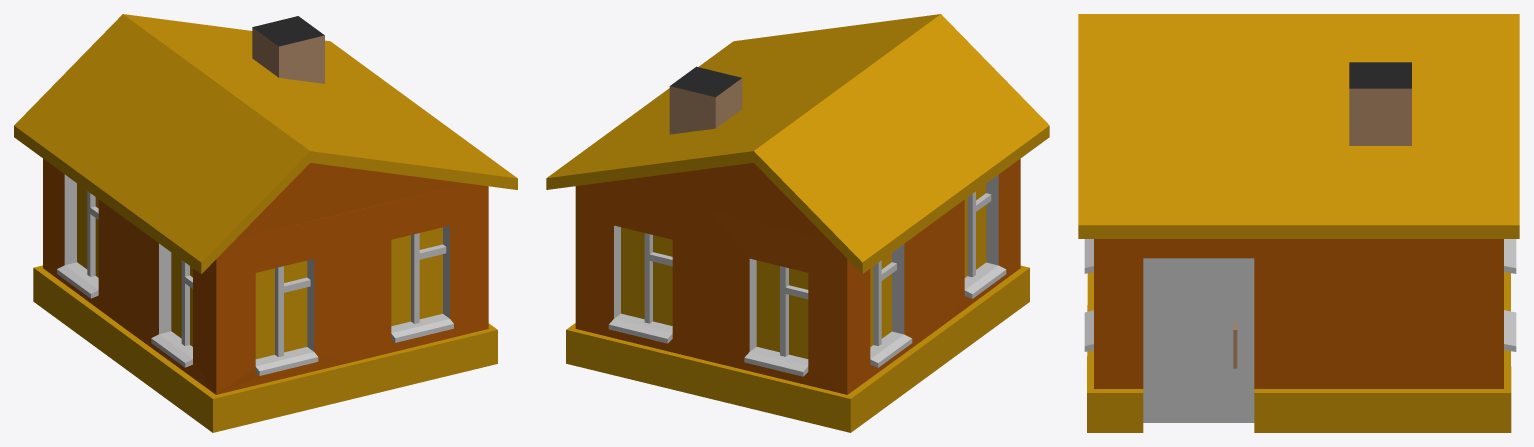
Rendered from asset.dae.
3 views of the same model, side by side, from view 1: azimuth 30°, elevation 25°; view 2: azimuth 150°, elevation 25°; view 3: azimuth 270°, elevation 25° (orthographic). The views are drawn at different scales.
Visible parts, largest first — view 1: polymsh3_Pts_Material__1__Surf, polymsh3_Pts_Material__4__Surf, polymsh3_Pts_Material__2__Surf, polymsh3_Pts_Material__3__Surf, polymsh3_Pts_Material__5__Surf; view 2: polymsh3_Pts_Material__1__Surf, polymsh3_Pts_Material__4__Surf, polymsh3_Pts_Material__2__Surf, polymsh3_Pts_Material__3__Surf, polymsh3_Pts_Material__5__Surf; view 3: polymsh3_Pts_Material__1__Surf, polymsh3_Pts_Material__4__Surf, polymsh3_Pts_Material__2__Surf, polymsh3_Pts_Material__3__Surf, polymsh3_Pts_Material__5__Surf.
Boxes of the visible parts, x1,y1,x2,y2 form: polymsh3_Pts_Material__1__Surf: (14,14,517,432); polymsh3_Pts_Material__4__Surf: (43,158,488,394); polymsh3_Pts_Material__2__Surf: (57,174,453,375); polymsh3_Pts_Material__3__Surf: (252,27,324,83); polymsh3_Pts_Material__5__Surf: (252,16,324,46); polymsh3_Pts_Material__1__Surf: (546,14,1049,432); polymsh3_Pts_Material__4__Surf: (575,159,1020,394); polymsh3_Pts_Material__2__Surf: (608,175,1006,376); polymsh3_Pts_Material__3__Surf: (669,78,742,134); polymsh3_Pts_Material__5__Surf: (670,66,741,97); polymsh3_Pts_Material__1__Surf: (1078,14,1519,432); polymsh3_Pts_Material__4__Surf: (1094,239,1503,388); polymsh3_Pts_Material__2__Surf: (1084,239,1516,422); polymsh3_Pts_Material__3__Surf: (1233,88,1411,368); polymsh3_Pts_Material__5__Surf: (1349,62,1411,88).
Bounding box in the file's own units: 49.74 × 39.38 × 51.01.
